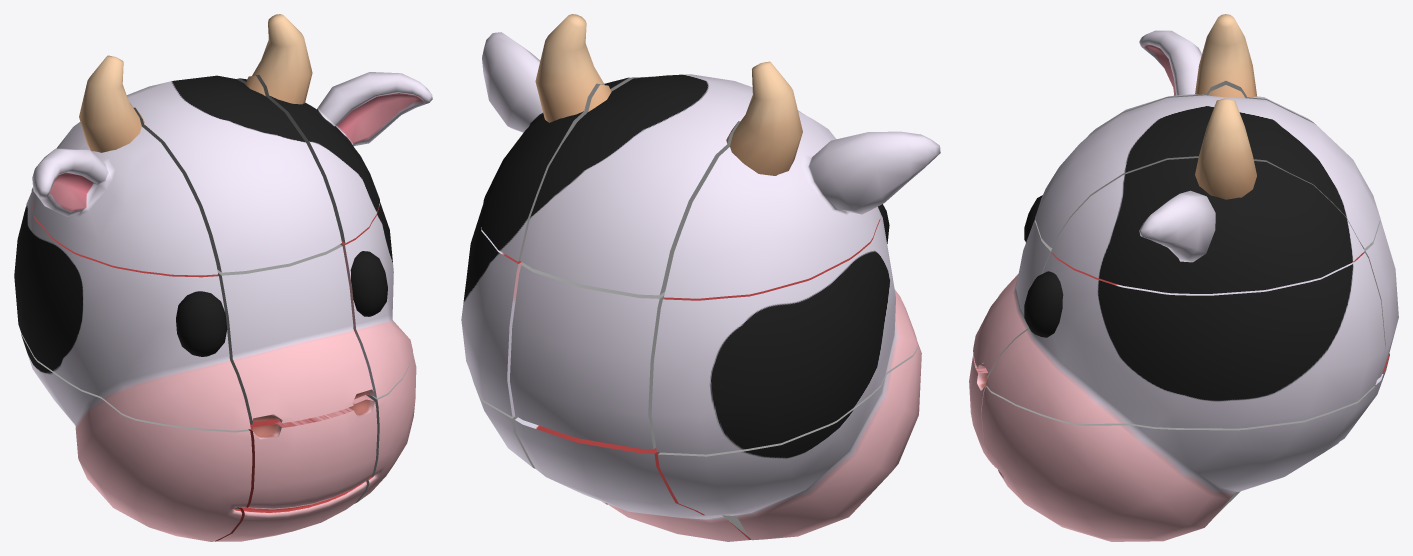
File: Cow_Cut.fbx
3 renders of one model, left to right at view 1: azimuth 30°, elevation 25°; view 2: azimuth 150°, elevation 25°; view 3: azimuth 270°, elevation 25°, orthographic. The views are drawn at different scales.
Parts seen in each view (by area): view 1: L, T, LT, C, LB, RT, B, R, RB; view 2: L, LT, T, C, LB, RT, B, R, RB; view 3: R, RT, RB, T, C, LT, B.
Boxes of the visible parts, box(x1,y1,x2,y2) form: L: box(14, 193, 250, 430); T: box(127, 75, 341, 272); LT: box(31, 55, 217, 275); C: box(217, 244, 373, 425); LB: box(21, 333, 252, 541); RT: box(236, 14, 432, 243); B: box(215, 395, 377, 541); R: box(340, 202, 412, 398); RB: box(355, 352, 416, 503); L: box(651, 204, 917, 454); LT: box(664, 61, 940, 298); T: box(520, 74, 804, 295); C: box(510, 263, 665, 449); LB: box(657, 342, 921, 540); RT: box(481, 14, 651, 261); B: box(514, 417, 751, 541); R: box(461, 204, 523, 416); RB: box(471, 374, 608, 504); R: box(986, 252, 1385, 428); RT: box(1051, 98, 1364, 293); RB: box(981, 386, 1375, 541); T: box(1035, 85, 1380, 248); C: box(973, 219, 1398, 379); LT: box(1088, 14, 1315, 135); B: box(969, 353, 1389, 477).
Size of the model in its own units: 47.25 by 52.03 by 44.12.
